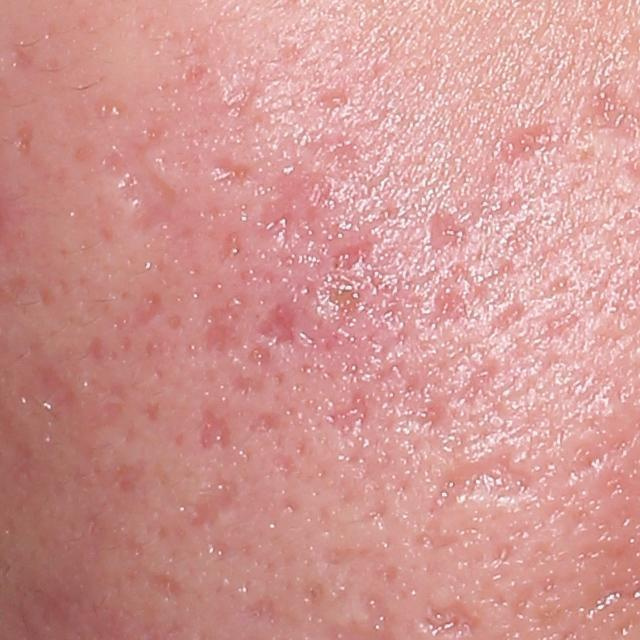atrophic_scar: (316, 269, 420, 473), (441, 306, 594, 413), (251, 118, 353, 264), (96, 113, 198, 253), (421, 438, 546, 547), (205, 36, 314, 140), (310, 233, 378, 338), (427, 265, 515, 333), (491, 118, 570, 174), (245, 298, 299, 377), (185, 474, 236, 537), (125, 288, 183, 332), (199, 152, 265, 189), (427, 203, 471, 257), (203, 294, 242, 353), (199, 400, 230, 449), (486, 303, 530, 332), (153, 566, 191, 598), (226, 367, 264, 396), (315, 82, 352, 109), (10, 118, 34, 158), (245, 595, 280, 621), (84, 331, 107, 370), (250, 408, 278, 436), (274, 454, 294, 481), (142, 399, 162, 421), (284, 497, 301, 513)
